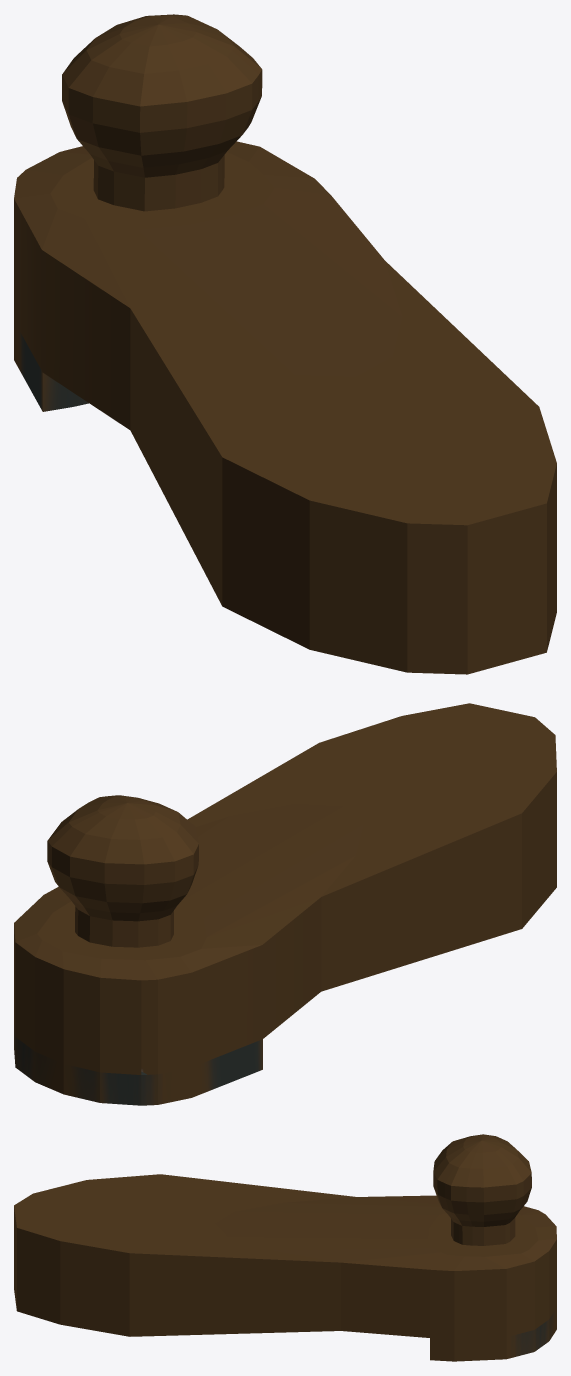
The model's file is alien_pied.fbx.
3 views of the same model, one above another, from view 1: azimuth 30°, elevation 25°; view 2: azimuth 150°, elevation 25°; view 3: azimuth 270°, elevation 25° (orthographic). The views are drawn at different scales.
Visible parts, largest first — view 1: polySurface18; view 2: polySurface18; view 3: polySurface18.
Part boxes in pixels (box(x1,y1,x2,y2)): polySurface18: box(14, 14, 556, 674); polySurface18: box(14, 703, 556, 1105); polySurface18: box(14, 1134, 556, 1361).
Size of the model in its own units: 0.6428 by 0.5734 by 1.52.
